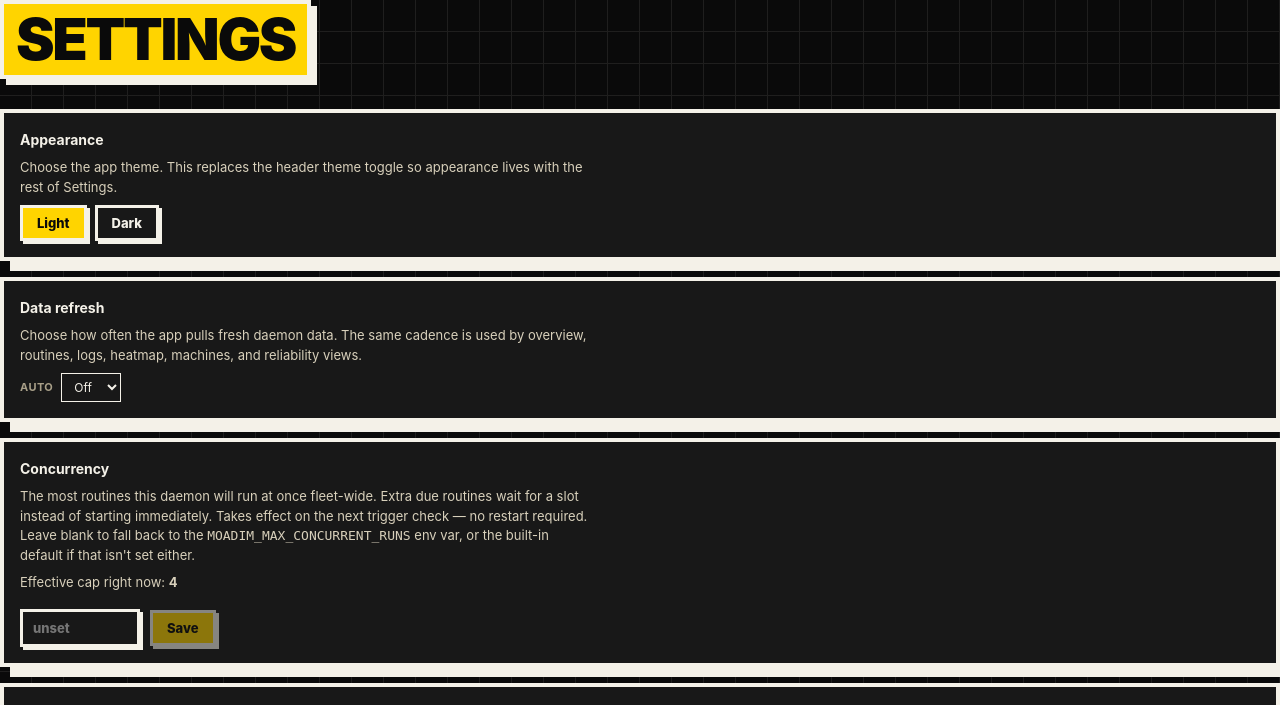
SettingsPage › concurrency cap › only shows Clear once an override value is entered
Check: the button "Clear" is not shown
In the number field named "Max concurrent runs override": (80, 628) [20,609,140,647], type "8"
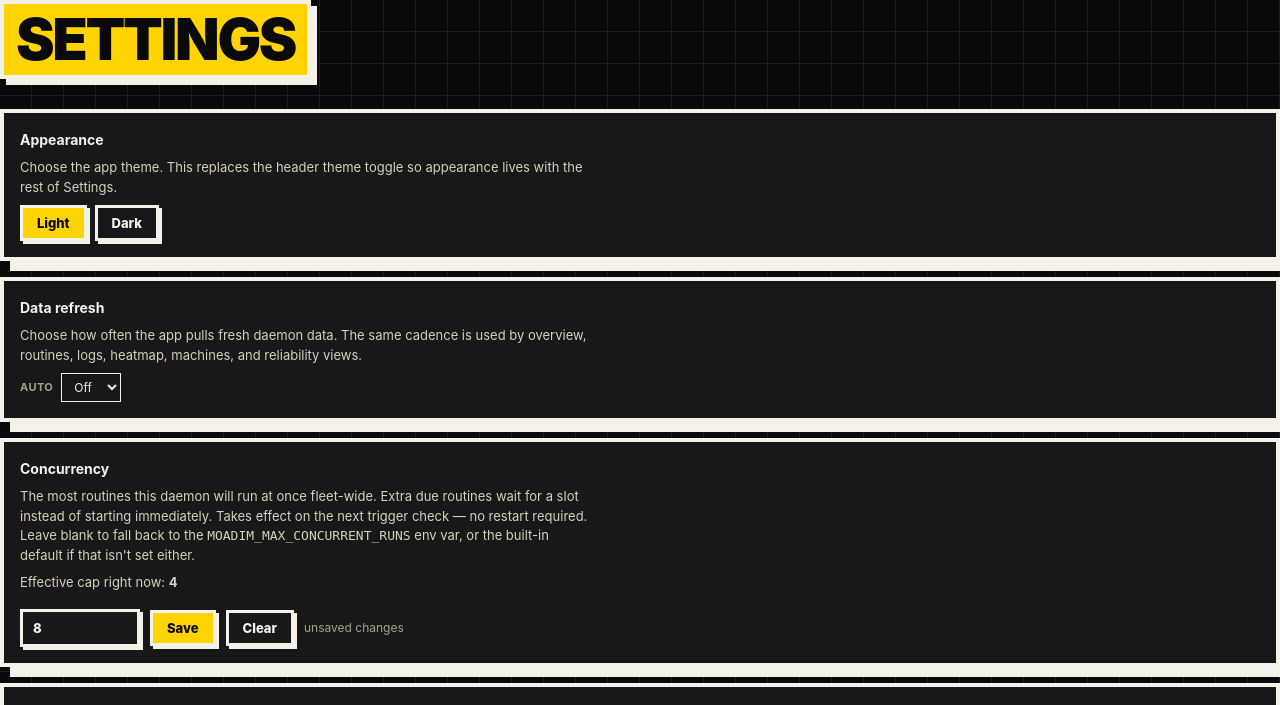
Check: the button "Clear" is shown
Click the button "Clear": (260, 628) [226,610,294,646]
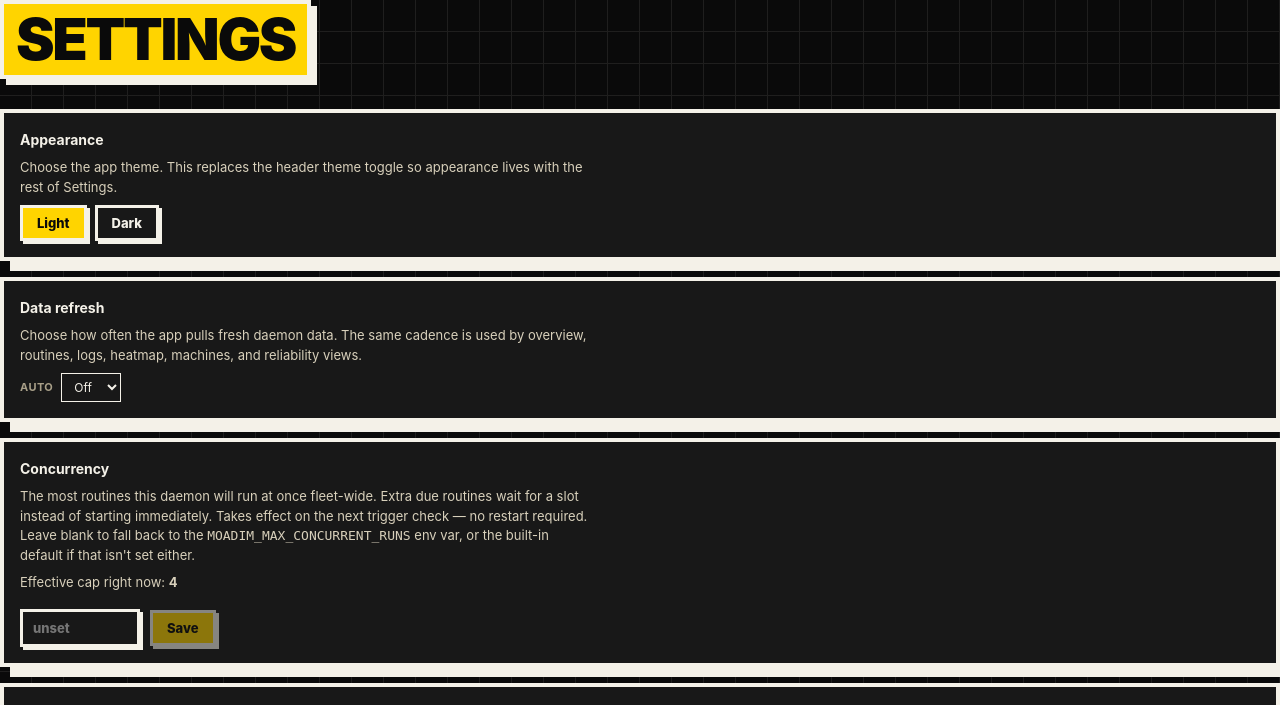
Check: the number field named "Max concurrent runs override" is not empty, box [20,609,140,647]
Check: the button "Clear" is gone
